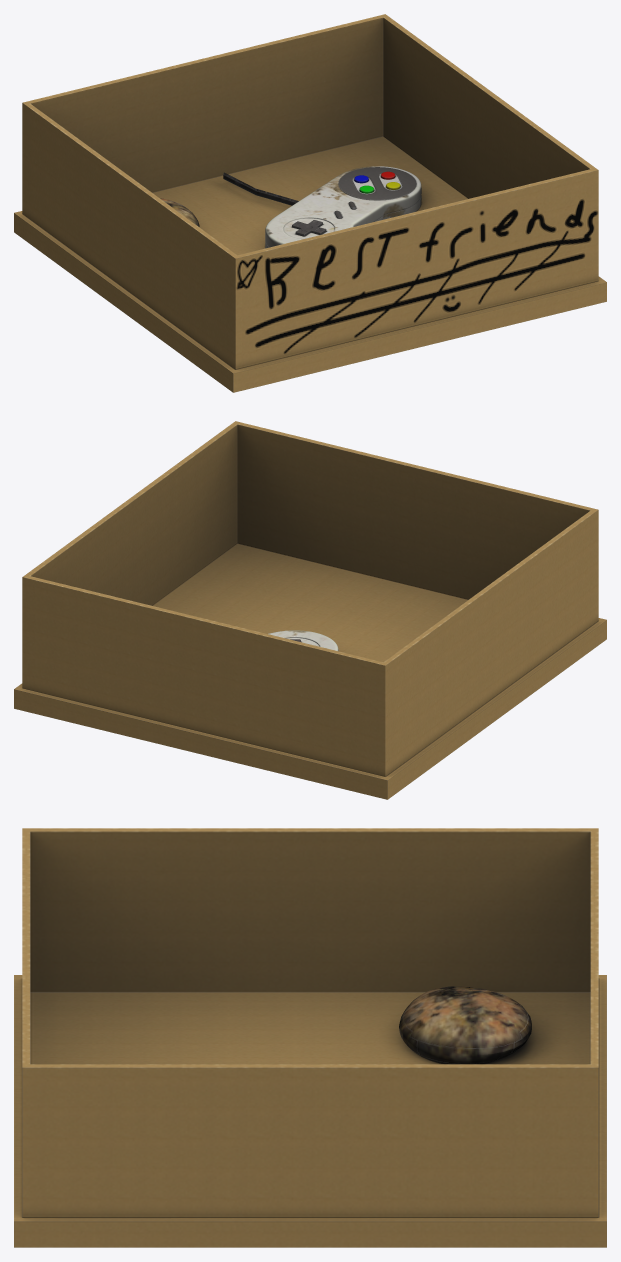
Rendered from cardboard_box(1).glb.
3 views of the same model, one above another, from view 1: azimuth 30°, elevation 25°; view 2: azimuth 150°, elevation 25°; view 3: azimuth 270°, elevation 25° (orthographic). The views are drawn at different scales.
Visible parts, largest first — view 1: Object_5, Object_3, Object_4; view 2: Object_5, Object_3; view 3: Object_5.
Part boxes in pixels (box(x1,y1,x2,y2)): Object_5: box(14, 14, 606, 392); Object_3: box(265, 166, 421, 247); Object_4: box(265, 171, 420, 247); Object_5: box(14, 421, 606, 799); Object_3: box(268, 630, 338, 651); Object_5: box(14, 828, 606, 1247).
Size of the model in its own units: 20.29 by 6.78 by 20.63.
1 material, 1 textured.
